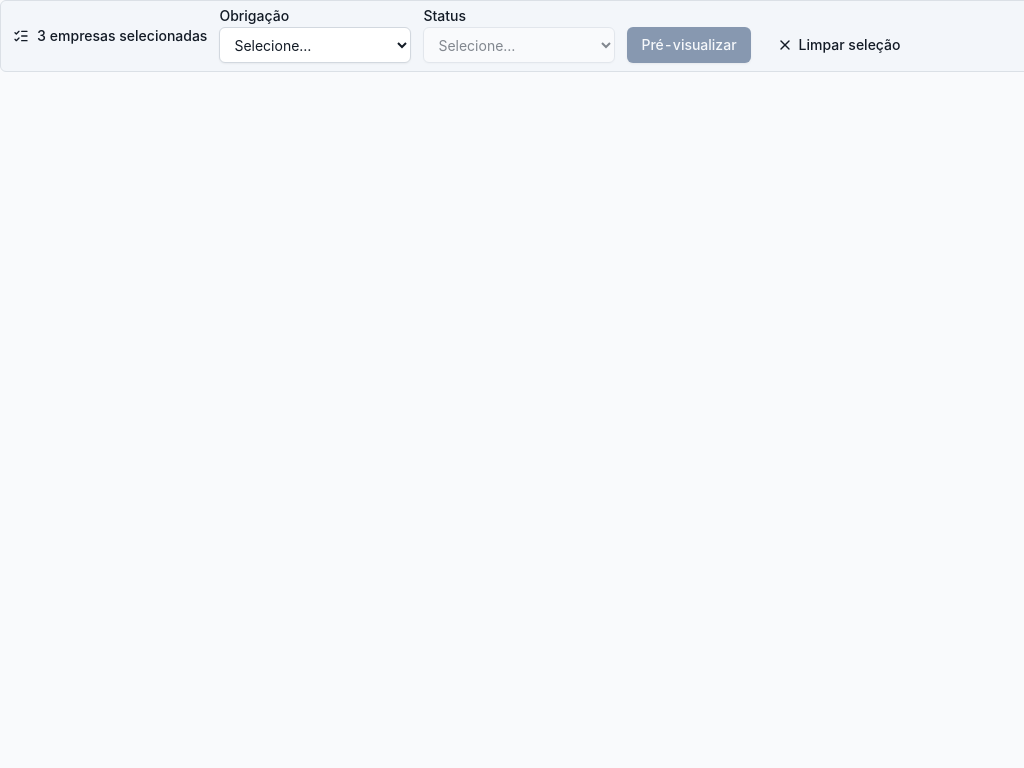
BulkActionBar › CA-016 fluxo completo: obrigação → status → prévia → confirmar
The image size is (1024, 768).
Expected: the element named "Ações em massa" shows "3 empresas selecionadas", left=37, top=27, right=207, bottom=44
Expected: the button "Pré-visualizar" is disabled, left=627, top=27, right=751, bottom=63
Select "Retidos" in the dropdown labelled "Obrigação": coordinates (315, 45) left=219, top=27, right=411, bottom=63
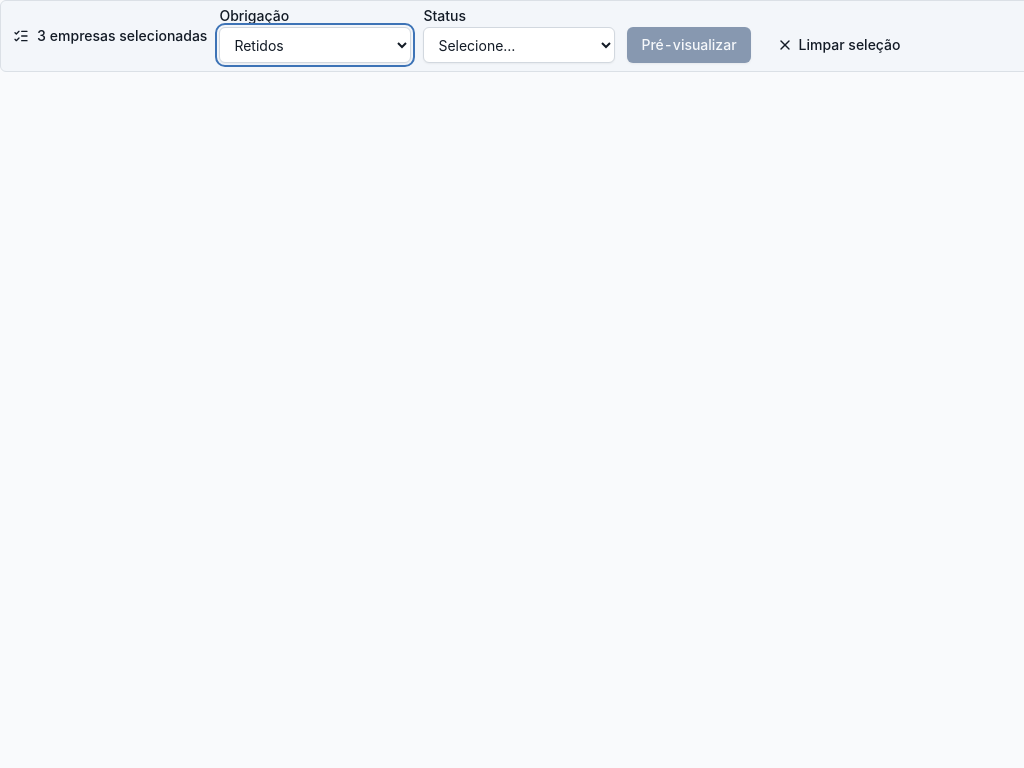
Select "Sem movimento" in the dropdown labelled "Status": coordinates (519, 45) left=423, top=27, right=615, bottom=63
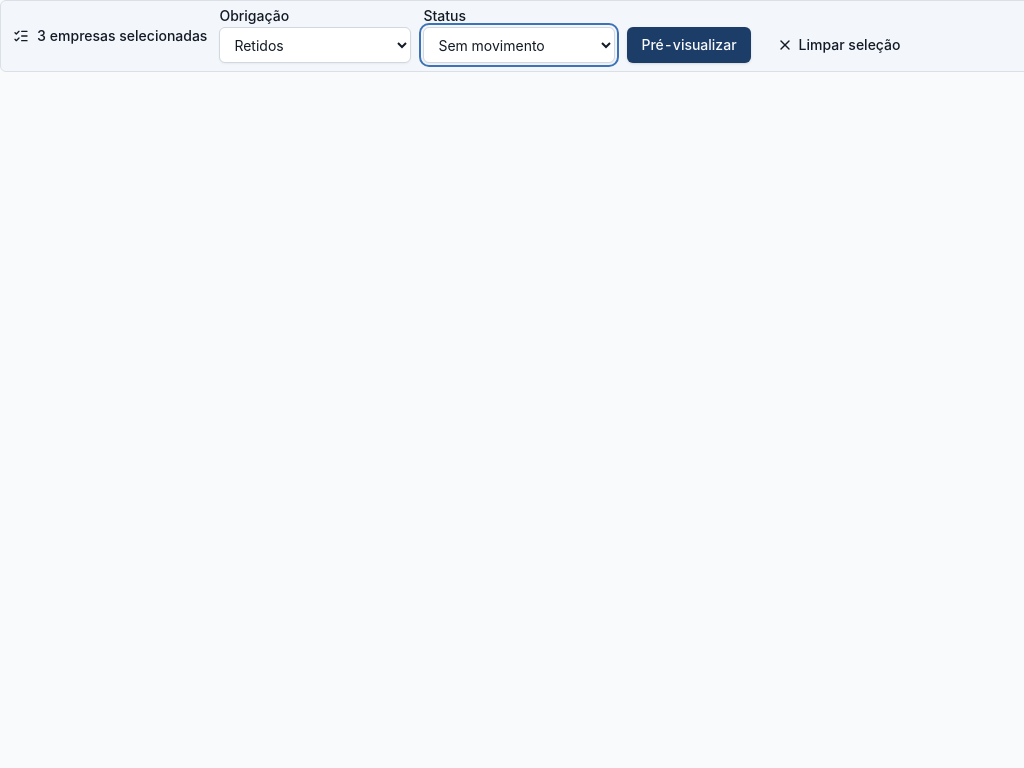
Click the button "Pré-visualizar": coordinates (689, 45) left=627, top=27, right=751, bottom=63
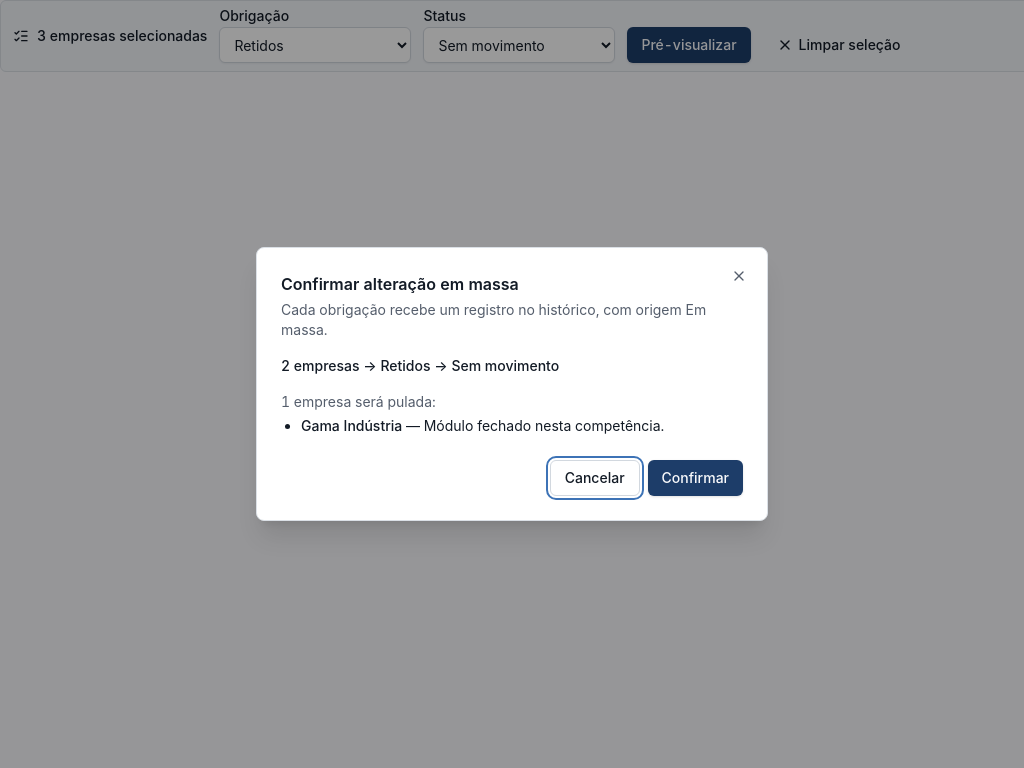
Expected: the dialog shows "2 empresas → Retidos → Sem movimento", left=256, top=247, right=768, bottom=521
Expected: the list named "Empresas puladas" reads "Gama Indústria — Módulo fechado nesta competência.", left=301, top=417, right=664, bottom=434
Click the button "Confirmar": coordinates (695, 478) left=648, top=460, right=743, bottom=496
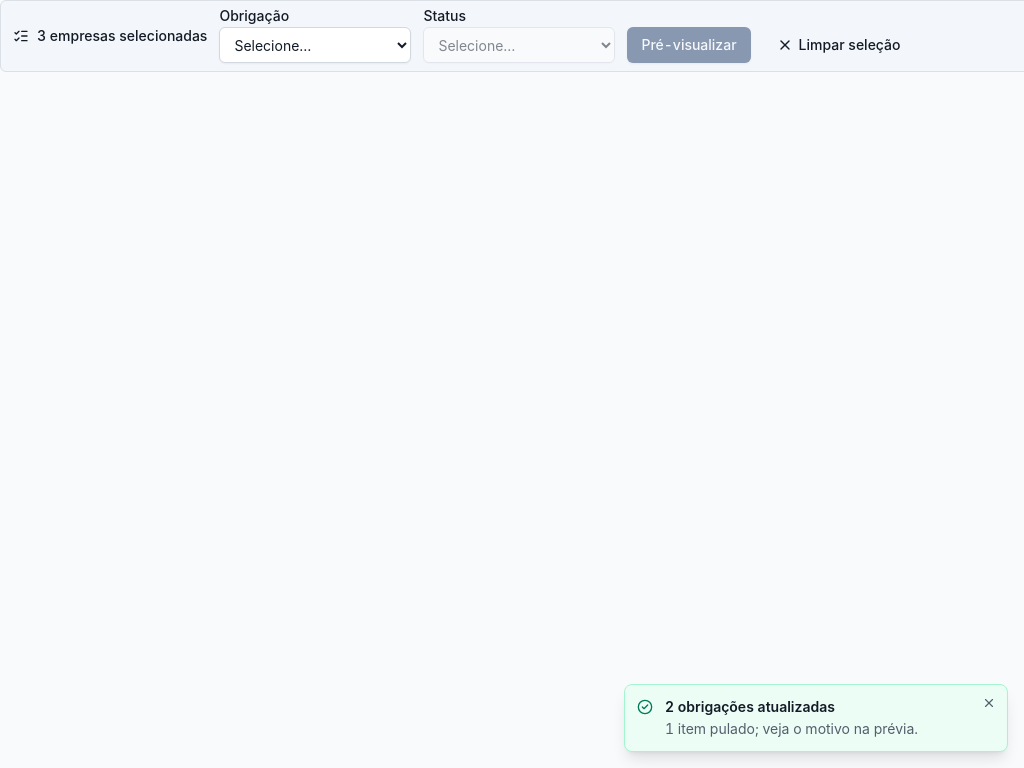
Expected: the text "2 obrigações atualizadas" is shown, left=665, top=698, right=835, bottom=715
